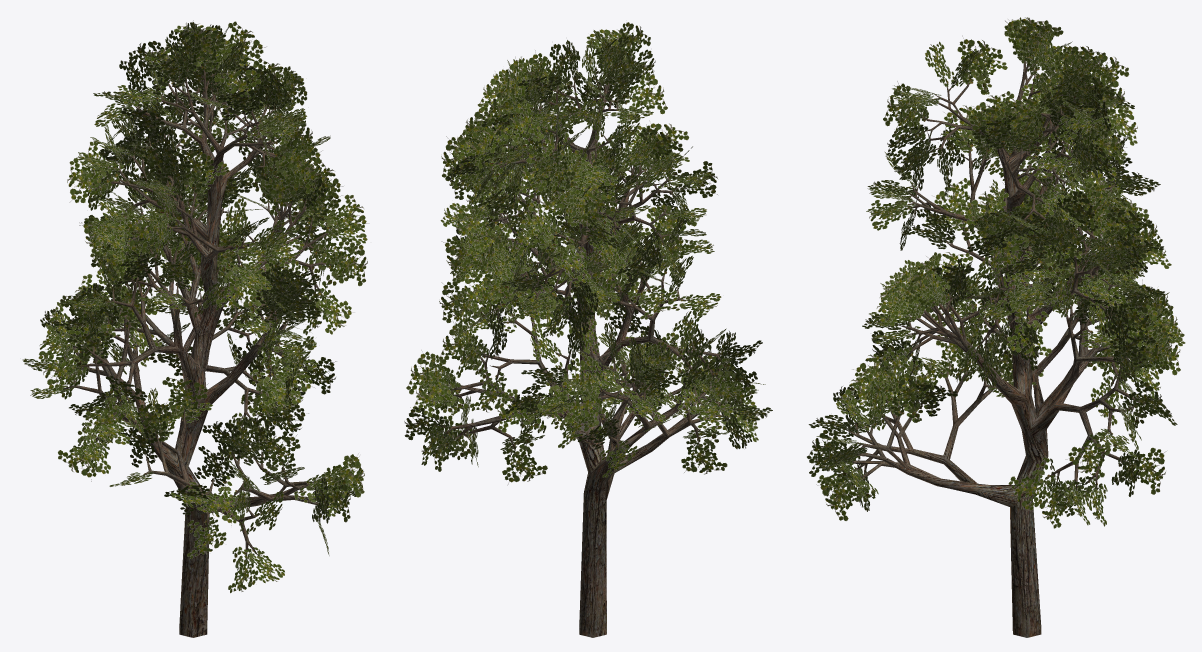
Rendered from tree-2-10.obj.
The picture shows the model from 3 angles, left to right: view 1: azimuth 30°, elevation 25°; view 2: azimuth 150°, elevation 25°; view 3: azimuth 270°, elevation 25°; orthographic projection. The views are drawn at different scales.
Visible parts, largest first — view 1: Twig0, Tree0; view 2: Twig0, Tree0; view 3: Twig0, Tree0.
Boxes of the visible parts, bbox=[...] form: Twig0: bbox=[22, 20, 369, 593]; Tree0: bbox=[63, 61, 333, 637]; Twig0: bbox=[404, 22, 772, 485]; Tree0: bbox=[436, 63, 737, 637]; Twig0: bbox=[807, 17, 1185, 528]; Tree0: bbox=[844, 57, 1144, 637].
Size of the model in its own units: 3.71 by 6.76 by 3.83.
Materials: 2 (2 with a texture image).
